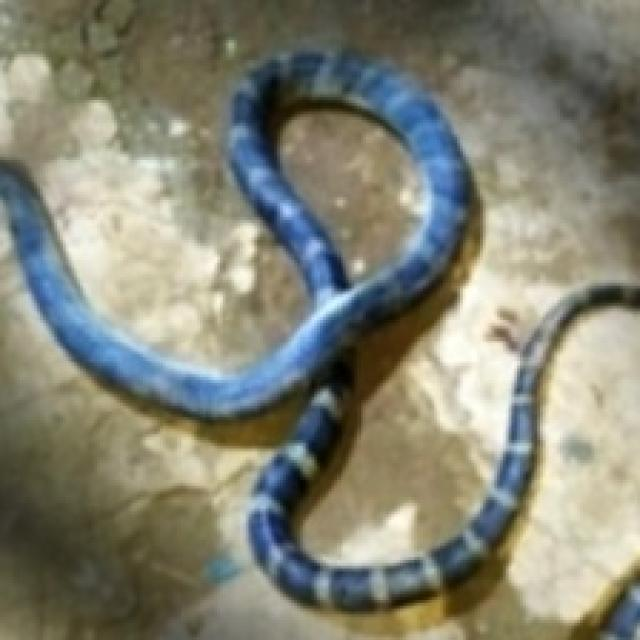king cobra: (0, 51, 466, 414), (249, 283, 637, 606), (266, 103, 423, 283), (297, 386, 366, 523)
